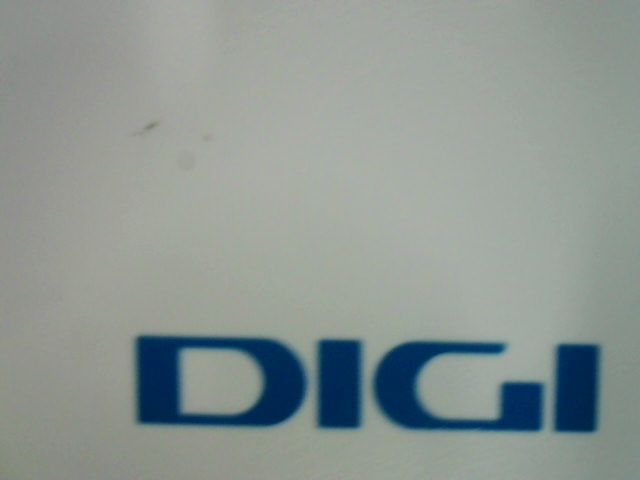BL_DIGI: (117, 316, 607, 438)
